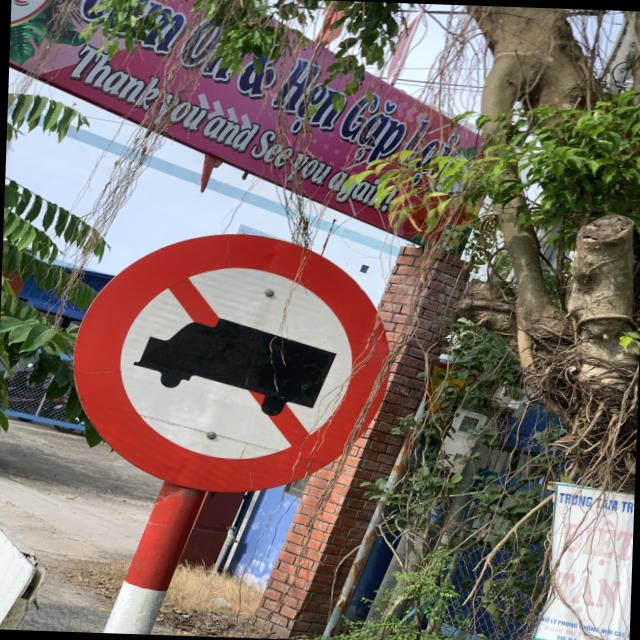Cam_Xe_Tai: (69, 227, 392, 498)
